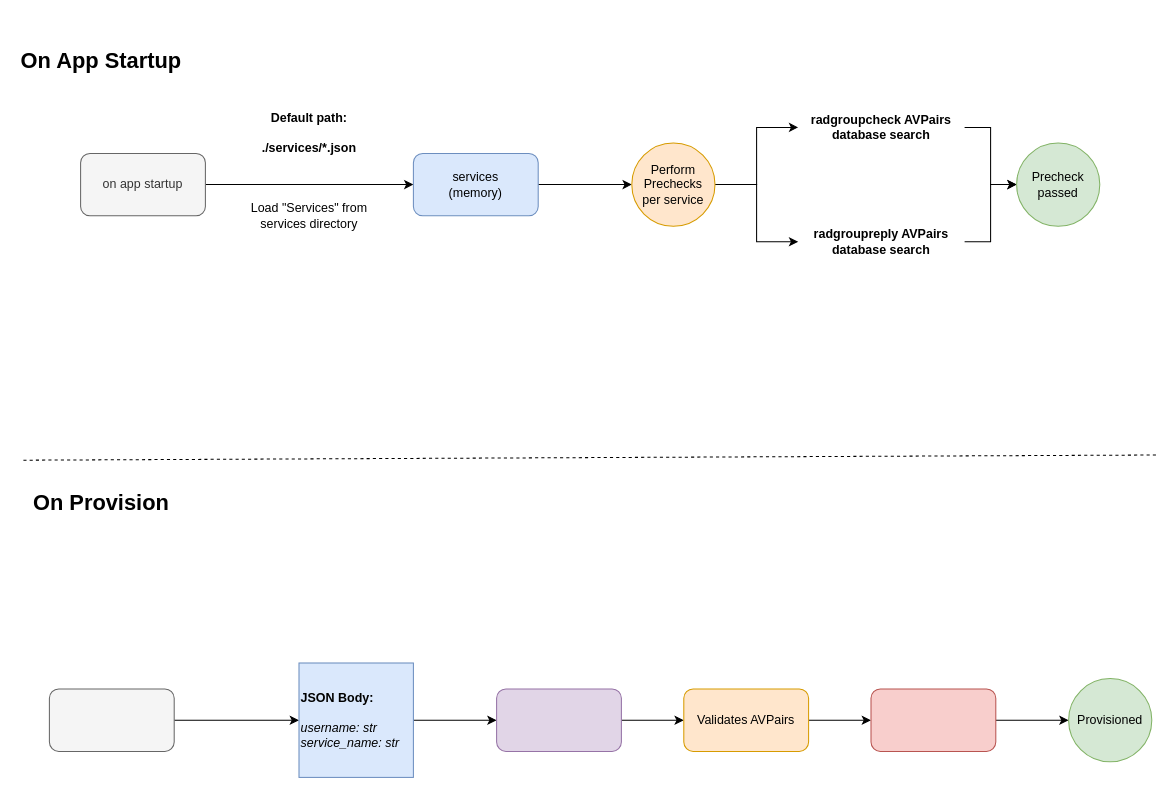
Image size: 1176x796. Some labels were removed from this diagram. The shapes that lost their labels are listed below. From the top down, each one's centre as x and y in pixels, then its label:
At pixel 111 719: "Endpoint /api/v1/services/".
At pixel 558 719: "Validates Service and Username".
At pixel 933 719: "Ensure AVPairs don't already exist".
